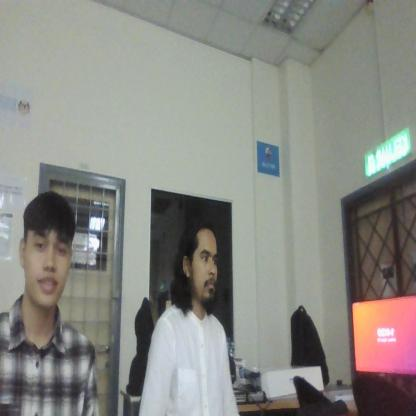Open-Eyes: (27, 228, 74, 263), (198, 242, 223, 268)
